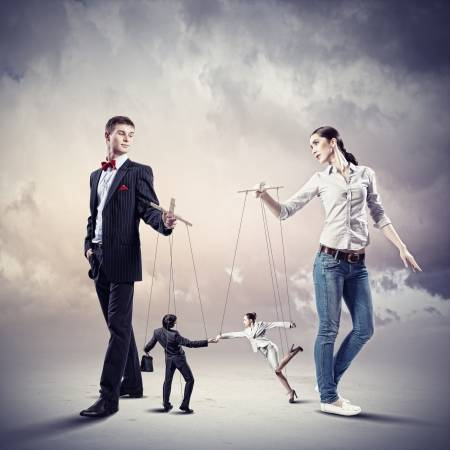F_shirt: (278, 169, 394, 245), (220, 322, 296, 349)
